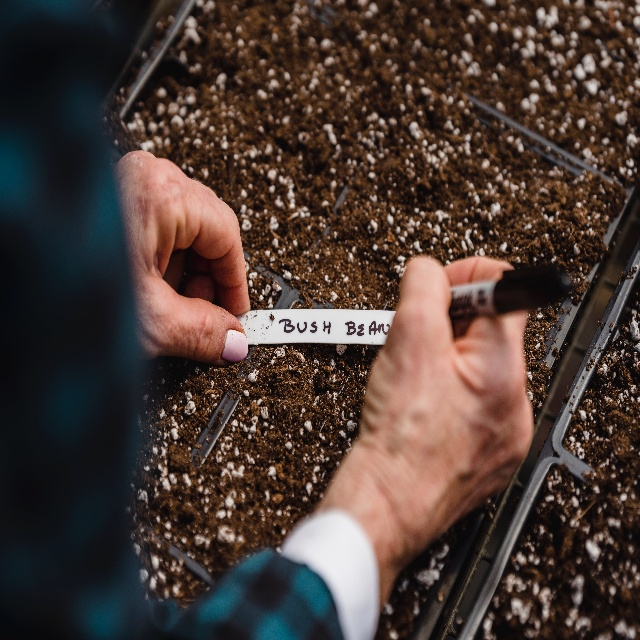Sin_guantes: (364, 241, 542, 559), (112, 144, 254, 368)
